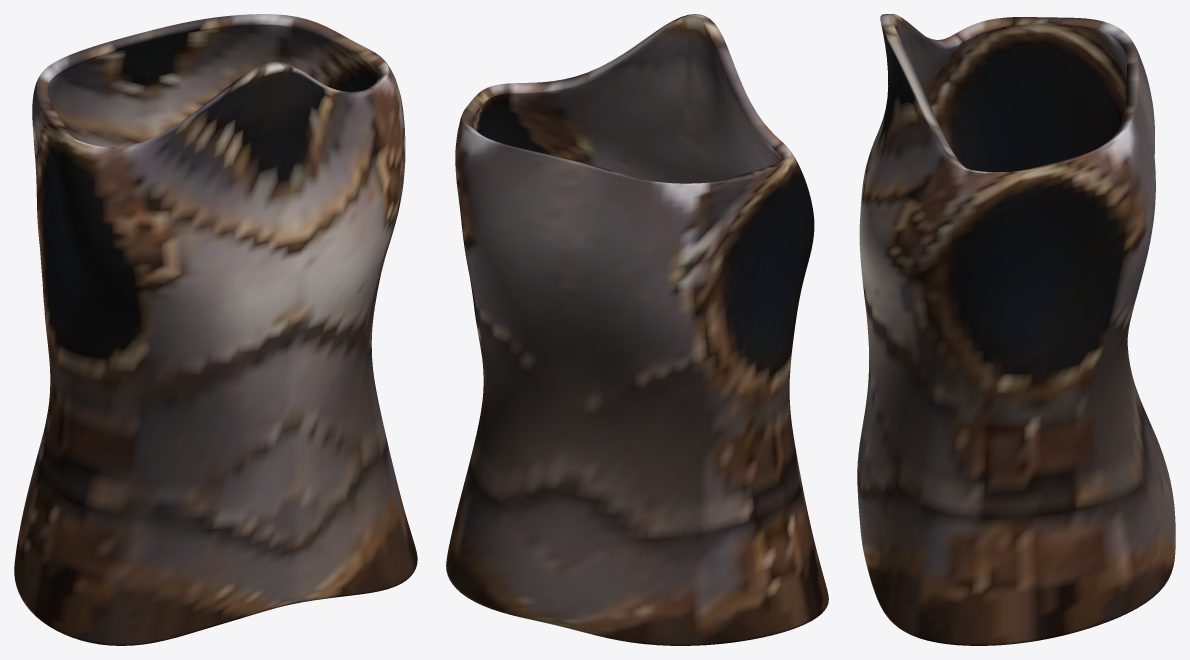
The model's file is ruestung.brust.stahlplatte.glb.
The picture shows the model from 3 angles, left to right: view 1: azimuth 30°, elevation 25°; view 2: azimuth 150°, elevation 25°; view 3: azimuth 270°, elevation 25°; orthographic projection. The views are drawn at different scales.
Parts seen in each view (by area): view 1: teil; view 2: teil; view 3: teil.
Boxes of the visible parts, bbox=[...] form: teil: bbox=[14, 14, 417, 645]; teil: bbox=[446, 14, 828, 645]; teil: bbox=[857, 14, 1175, 645].
Bounding box in the file's own units: 0.4268 × 0.6274 × 0.3308.
